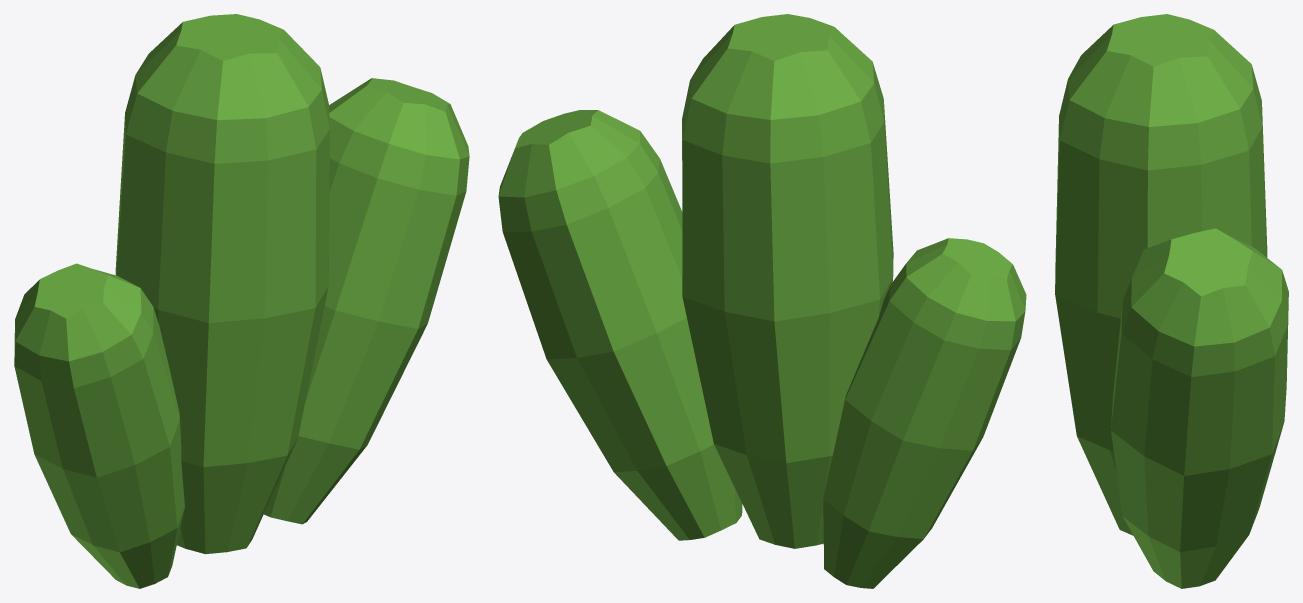
File: Cactus2.fbx
3 renders of one model, left to right at view 1: azimuth 30°, elevation 25°; view 2: azimuth 150°, elevation 25°; view 3: azimuth 270°, elevation 25°, orthographic.
Parts seen in each view (by area): view 1: Circle.005; view 2: Circle.005; view 3: Circle.005.
Part boxes in pixels (x1=…): Circle.005: x1=14, y1=14, x2=469, y2=588; Circle.005: x1=498, y1=14, x2=1026, y2=588; Circle.005: x1=1055, y1=14, x2=1288, y2=588.
Size of the model in its own units: 162 by 171 by 68.84.
